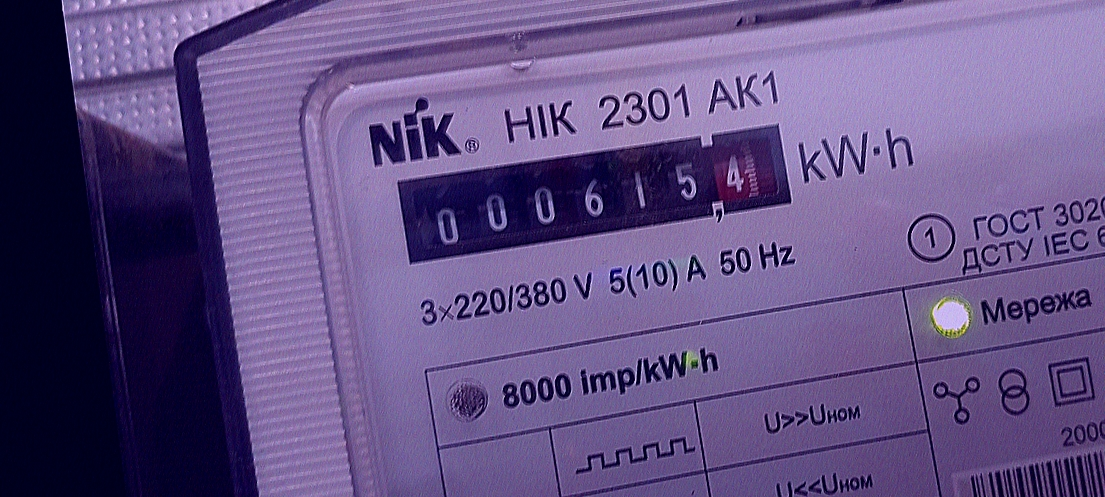0: (529, 182, 559, 227), (432, 202, 462, 246), (482, 189, 510, 232)
1: (631, 167, 649, 210)
4: (721, 151, 745, 194)
5: (672, 158, 700, 202)
6: (578, 175, 607, 218)
screen: (381, 110, 807, 276)
